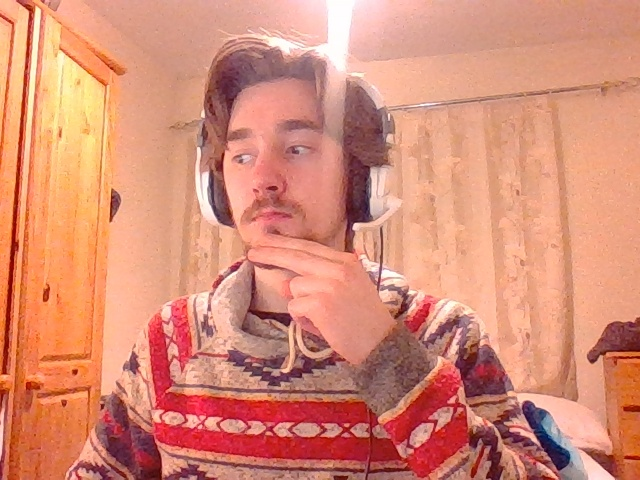afternoon: (236, 229, 392, 341)
